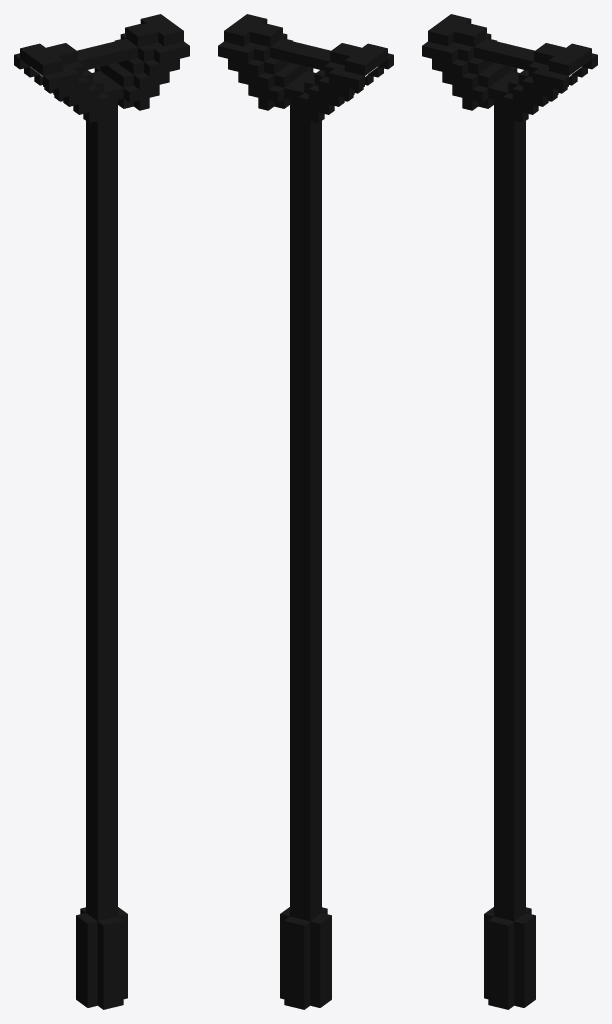
Rendered from Streetlight1.obj.
3 renders of one model, left to right at view 1: azimuth 30°, elevation 25°; view 2: azimuth 150°, elevation 25°; view 3: azimuth 330°, elevation 25°, orthographic.
Size of the model in its own units: 1.4 by 9.1 by 0.6.
Materials: 1 (1 with a texture image).
